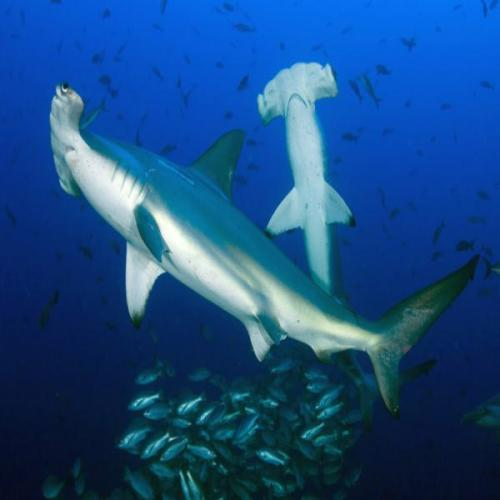shark-endangered: (49, 82, 484, 418), (257, 62, 438, 420)
